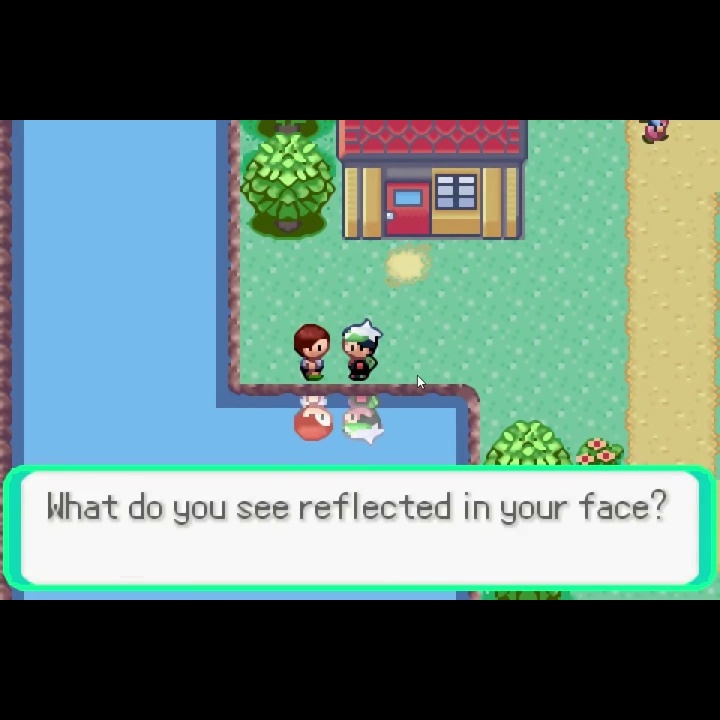house: (335, 119, 531, 243)
npc: (338, 317, 383, 383), (292, 322, 332, 382)
wall: (239, 133, 337, 243), (481, 421, 574, 465), (239, 120, 335, 145)
